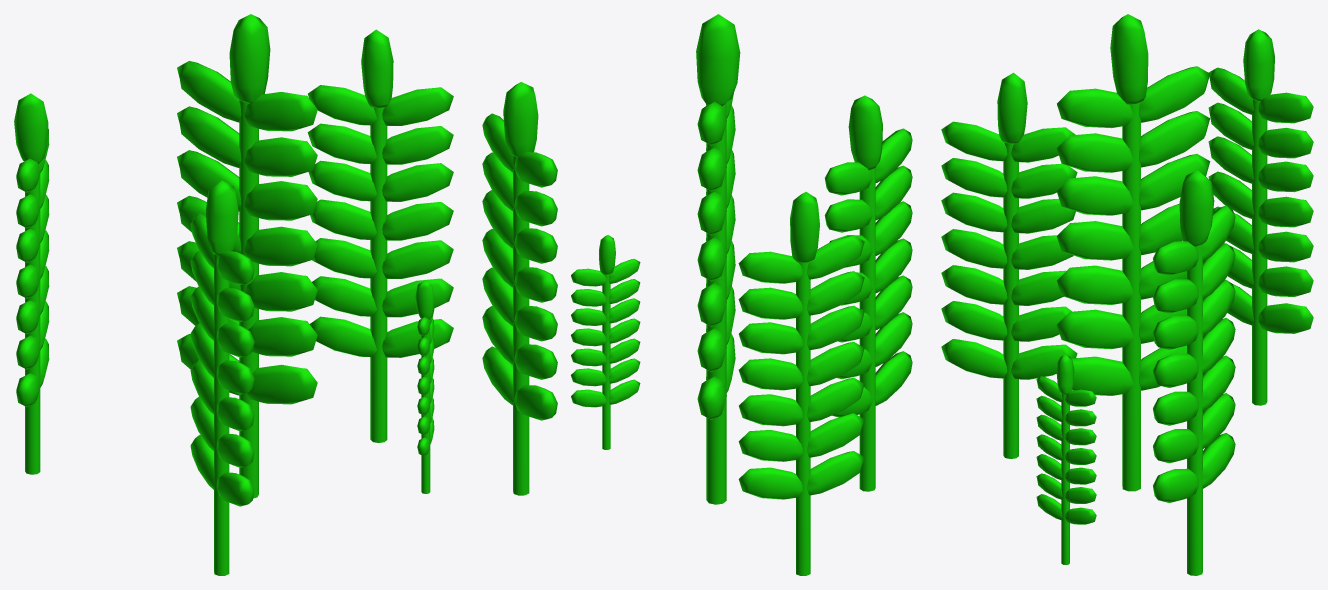
Rendered from Blé_Croissance_1.fbx.
3 renders of one model, left to right at view 1: azimuth 30°, elevation 25°; view 2: azimuth 150°, elevation 25°; view 3: azimuth 270°, elevation 25°, orthographic. The views are drawn at different scales.
Visible parts, largest first — view 1: Blé.001, Blé, Blé.003, Blé.002, Blé.004; view 2: Blé.002, Blé.001, Blé.003, Blé, Blé.004; view 3: Blé, Blé.003, Blé.002, Blé.001, Blé.004.
Boxes of the visible parts, left/top/right/bottom form: Blé.001: left=307, top=29, right=453, bottom=442; Blé: left=177, top=14, right=317, bottom=498; Blé.003: left=190, top=180, right=254, bottom=575; Blé.002: left=14, top=93, right=49, bottom=474; Blé.004: left=415, top=280, right=434, bottom=493; Blé.002: left=738, top=192, right=864, bottom=575; Blé.001: left=482, top=82, right=557, bottom=495; Blé.003: left=824, top=95, right=912, bottom=491; Blé: left=696, top=14, right=740, bottom=504; Blé.004: left=571, top=235, right=640, bottom=449; Blé: left=1056, top=14, right=1210, bottom=491; Blé.003: left=941, top=72, right=1077, bottom=458; Blé.002: left=1208, top=29, right=1313, bottom=405; Blé.001: left=1153, top=170, right=1235, bottom=575; Blé.004: left=1036, top=354, right=1096, bottom=564.
Size of the model in its own units: 341 by 397 by 277.
